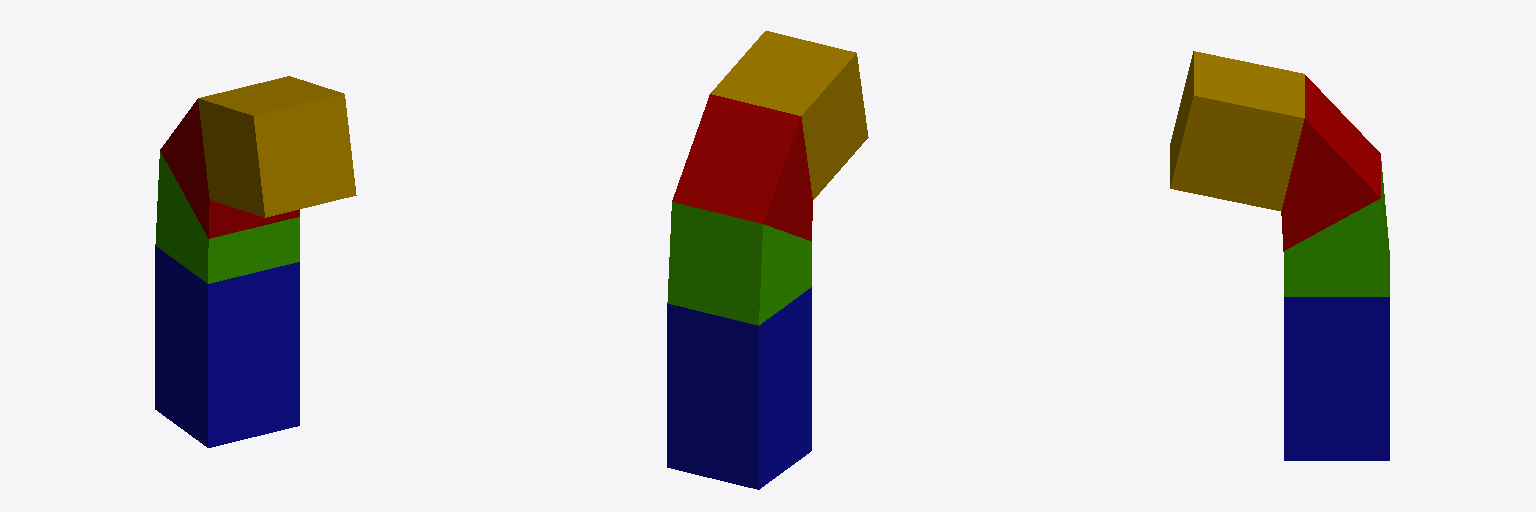
Rendered from MultiMaterialTestblend.obj.
3 views of the same model, side by side, from view 1: azimuth 30°, elevation 25°; view 2: azimuth 150°, elevation 25°; view 3: azimuth 270°, elevation 25° (orthographic).
Visible parts, largest first — view 1: Cube; view 2: Cube; view 3: Cube.
Boxes of the visible parts, x1,y1,x2,y2 form: Cube: [155, 76, 356, 447]; Cube: [667, 31, 868, 489]; Cube: [1170, 51, 1389, 460].
Size of the model in its own units: 2 by 7.64 by 4.16.